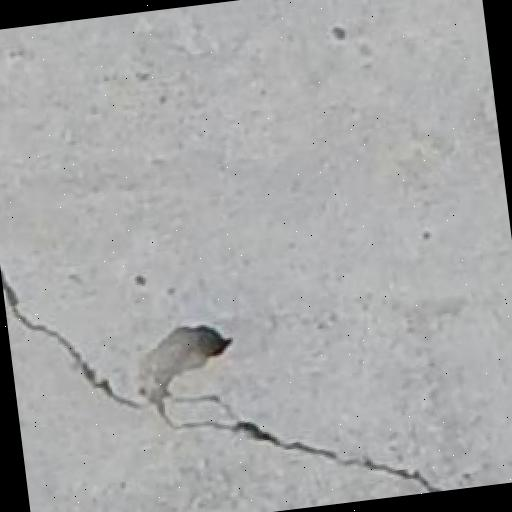spalling: (12, 276, 455, 492)
